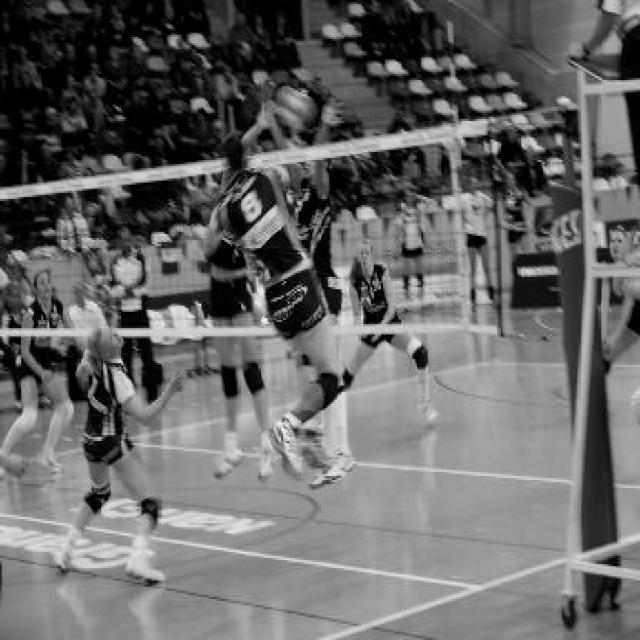volleyball: (274, 88, 314, 124)
